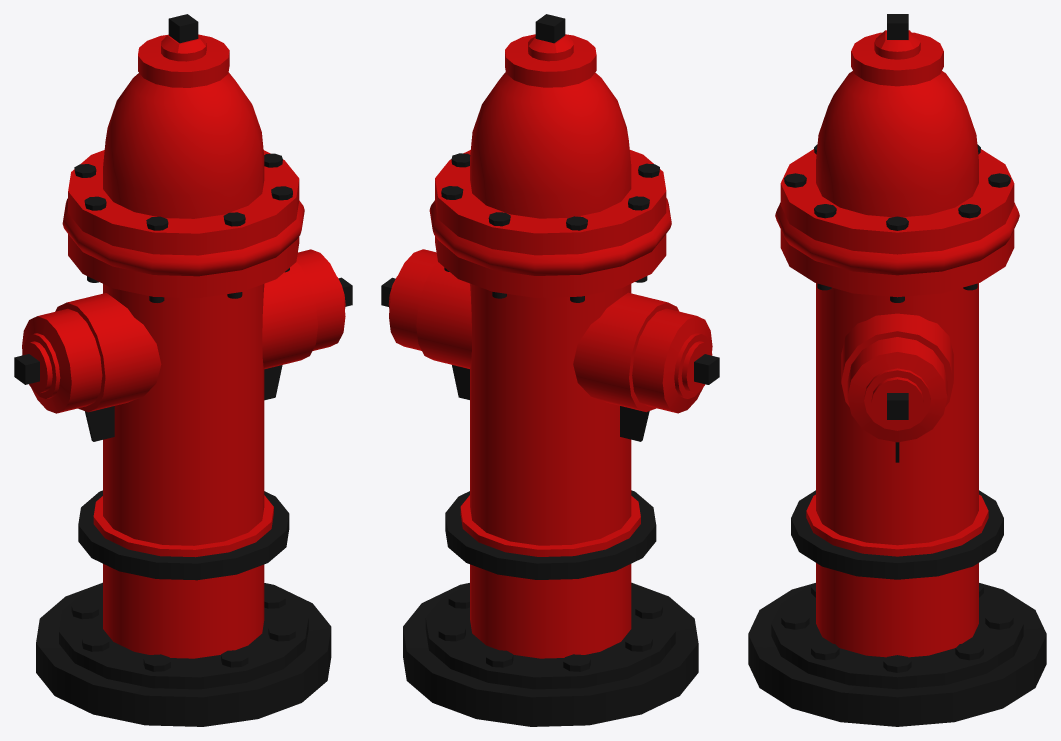
The model's file is Fire Hydrant_.fbx.
3 renders of one model, left to right at view 1: azimuth 30°, elevation 25°; view 2: azimuth 150°, elevation 25°; view 3: azimuth 270°, elevation 25°, orthographic.
Visible parts, largest first — view 1: Main_Fire; view 2: Main_Fire; view 3: Main_Fire.
Part boxes in pixels (x1,y1,x2,y2): Main_Fire: [14, 14, 352, 726]; Main_Fire: [381, 14, 719, 726]; Main_Fire: [748, 14, 1046, 726].
Size of the model in its own units: 25.59 by 48.12 by 20.18.
